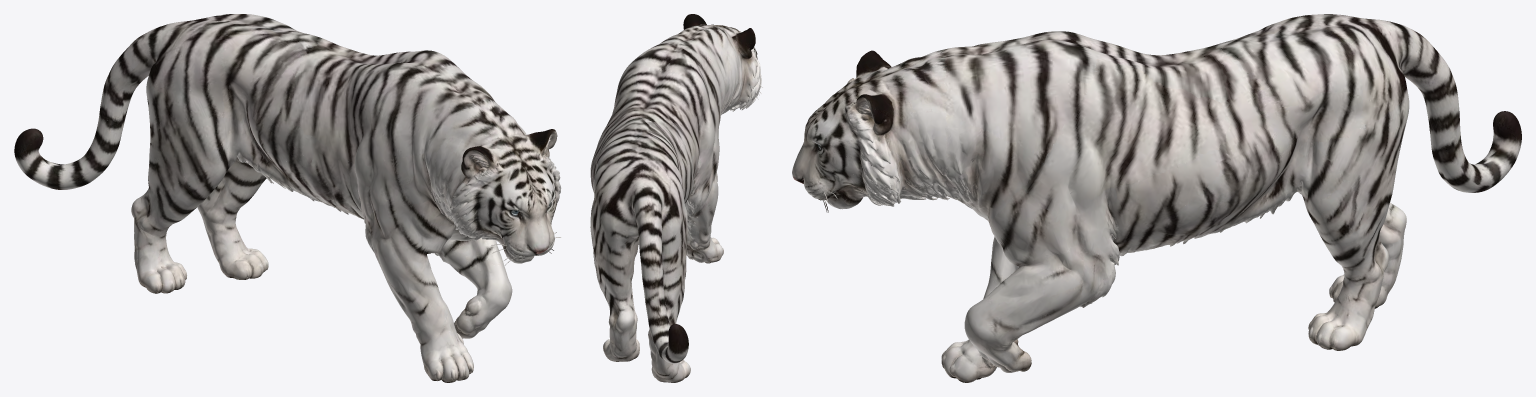
The model's file is wild-tiger.glb.
3 views of the same model, side by side, from view 1: azimuth 30°, elevation 25°; view 2: azimuth 150°, elevation 25°; view 3: azimuth 270°, elevation 25° (orthographic). The views are drawn at different scales.
Parts seen in each view (by area): view 1: white-tiger; view 2: white-tiger; view 3: white-tiger.
Part boxes in pixels (left/top/right/bottom): white-tiger: left=14, top=14, right=561, bottom=382; white-tiger: left=590, top=14, right=762, bottom=382; white-tiger: left=792, top=14, right=1521, bottom=382.
Bounding box in the file's own units: 1.45 × 1.44 × 2.8.
Materials: 1 (1 with a texture image).
